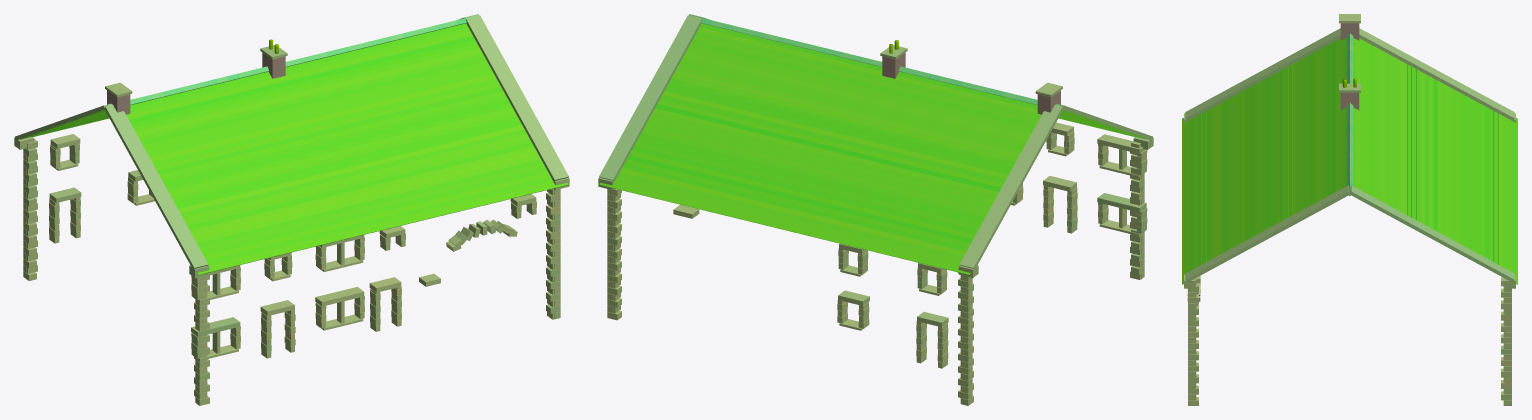
Rendered from SM_Bld_045_Stone.glb.
The picture shows the model from 3 angles, left to right: view 1: azimuth 30°, elevation 25°; view 2: azimuth 150°, elevation 25°; view 3: azimuth 270°, elevation 25°; orthographic projection. The views are drawn at different scales.
Visible parts, largest first — view 1: SM_Bld_045_Stone; view 2: SM_Bld_045_Stone; view 3: SM_Bld_045_Stone.
Boxes of the visible parts, bbox=[...] form: SM_Bld_045_Stone: bbox=[14, 14, 569, 405]; SM_Bld_045_Stone: bbox=[598, 14, 1153, 405]; SM_Bld_045_Stone: bbox=[1182, 14, 1517, 405].
Bounding box in the file's own units: 18.95 × 12.53 × 16.04.
